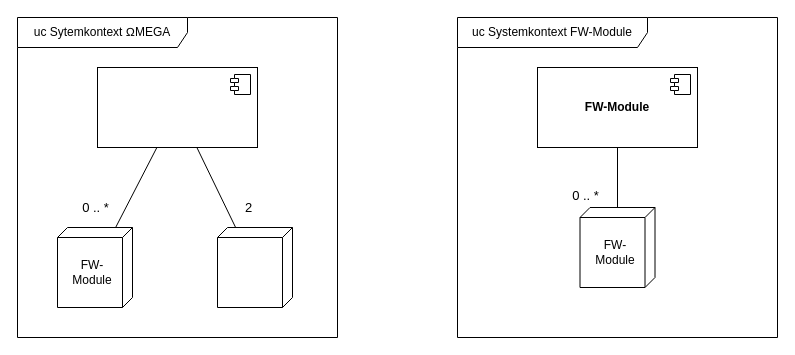
The diagram is 795 pixels wide and 355 high, and some of its shapes have lost their labels. The shapes that lost their labels are listed below. From the top down, each one's centre as x and y in pixels, then its label:
At (x=177, y=107): "«system» ΩMEGA".
At (x=254, y=267): "Operating System (OS)".
